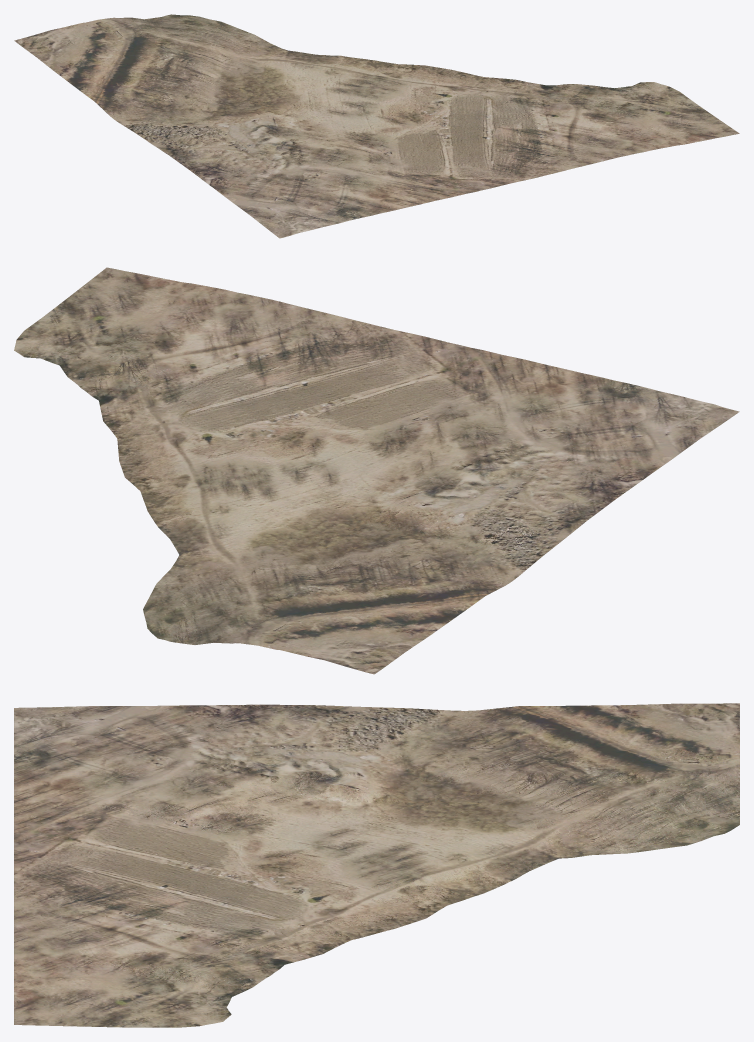
Rendered from CM_Terrain_24489230_6819589.fbx.
3 renders of one model, top to bottom at view 1: azimuth 30°, elevation 25°; view 2: azimuth 150°, elevation 25°; view 3: azimuth 270°, elevation 25°, orthographic. The views are drawn at different scales.
Parts seen in each view (by area): view 1: CM_Terrain_24489230_6819589_LOD0; view 2: CM_Terrain_24489230_6819589_LOD0; view 3: CM_Terrain_24489230_6819589_LOD0.
Part boxes in pixels (left/top/right/bottom): CM_Terrain_24489230_6819589_LOD0: left=14, top=14, right=739, bottom=238; CM_Terrain_24489230_6819589_LOD0: left=14, top=267, right=739, bottom=674; CM_Terrain_24489230_6819589_LOD0: left=14, top=703, right=739, bottom=1027.
Size of what is drawn, in the model's own units: 205 by 6.19 by 205.
